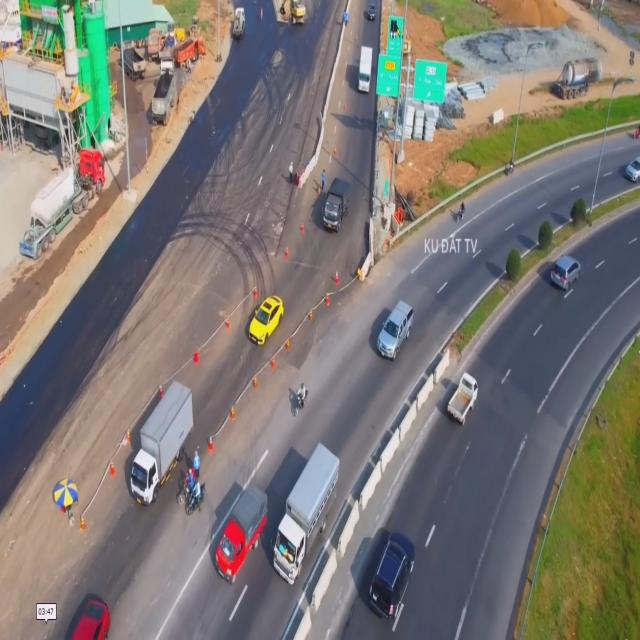car: (371, 526, 415, 622), (376, 302, 414, 361), (247, 291, 283, 346), (70, 592, 110, 640), (550, 252, 580, 292)
motorbike: (187, 486, 206, 516), (294, 380, 310, 414)
truck: (274, 439, 341, 588), (127, 377, 194, 506), (213, 484, 270, 584), (448, 367, 479, 428), (324, 174, 349, 233), (358, 44, 373, 93)
